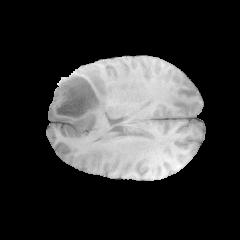glioma: (48, 70, 111, 138)
